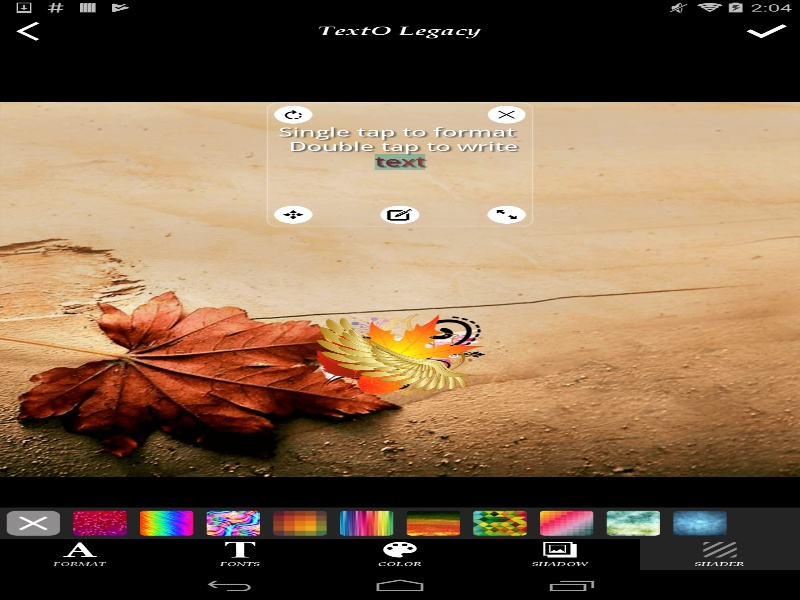Button: (6, 510, 60, 535), (206, 510, 260, 535), (606, 510, 660, 535), (73, 510, 126, 535), (140, 510, 193, 535), (273, 510, 326, 535), (340, 510, 393, 535), (406, 510, 459, 535), (473, 510, 526, 535), (540, 510, 593, 535), (673, 510, 726, 535), (746, 21, 786, 40)
Input: (273, 124, 526, 202)
